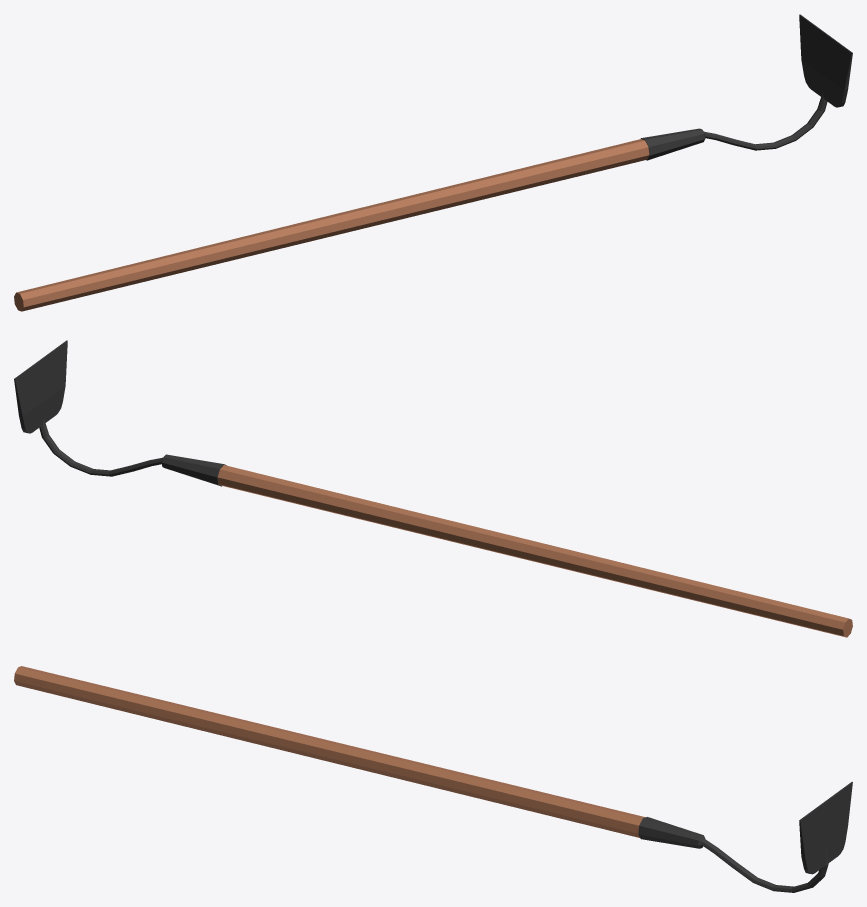
File: hoe_free_model.glb
The picture shows the model from 3 angles, top to bottom: view 1: azimuth 30°, elevation 25°; view 2: azimuth 150°, elevation 25°; view 3: azimuth 330°, elevation 25°; orthographic projection.
Visible parts, largest first — view 1: Hoe; view 2: Hoe; view 3: Hoe.
Boxes of the visible parts, x1=… form: Hoe: x1=14, y1=14, x2=852, y2=311; Hoe: x1=14, y1=340, x2=852, y2=637; Hoe: x1=14, y1=666, x2=852, y2=892.
Bounding box in the file's own units: 1.47 × 0.1774 × 0.1657.
1 material, 1 textured.
